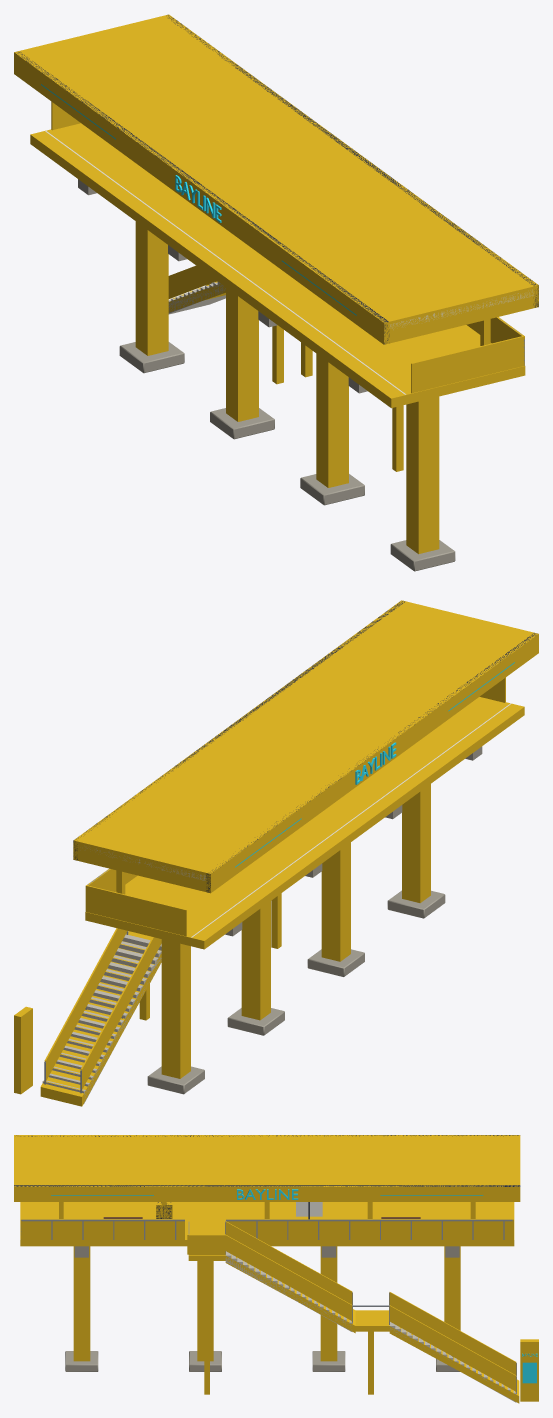
The model's file is rail_station.glb.
3 views of the same model, one above another, from view 1: azimuth 30°, elevation 25°; view 2: azimuth 150°, elevation 25°; view 3: azimuth 270°, elevation 25° (orthographic). The views are drawn at different scales.
Visible parts, largest first — view 1: rail_station__col, rail_station__shell; view 2: rail_station__col, rail_station__shell; view 3: rail_station__col, rail_station__shell.
Part boxes in pixels (x1,y1,x2,y2): rail_station__col: [14, 14, 538, 554]; rail_station__shell: [17, 15, 538, 571]; rail_station__col: [14, 600, 538, 1106]; rail_station__shell: [42, 601, 537, 1103]; rail_station__col: [14, 1135, 538, 1403]; rail_station__shell: [14, 1135, 537, 1402].
Bounding box in the file's own units: 8.09 × 10.95 × 25.5.
Materials: 1 (1 with a texture image).
